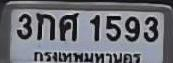1: (89, 14, 99, 40)
3: (16, 13, 31, 39), (143, 16, 157, 41)
5: (105, 15, 120, 40)
9: (124, 15, 139, 41)
A01: (35, 12, 54, 40)
A38: (59, 12, 78, 40)
BKK: (31, 49, 143, 63)
